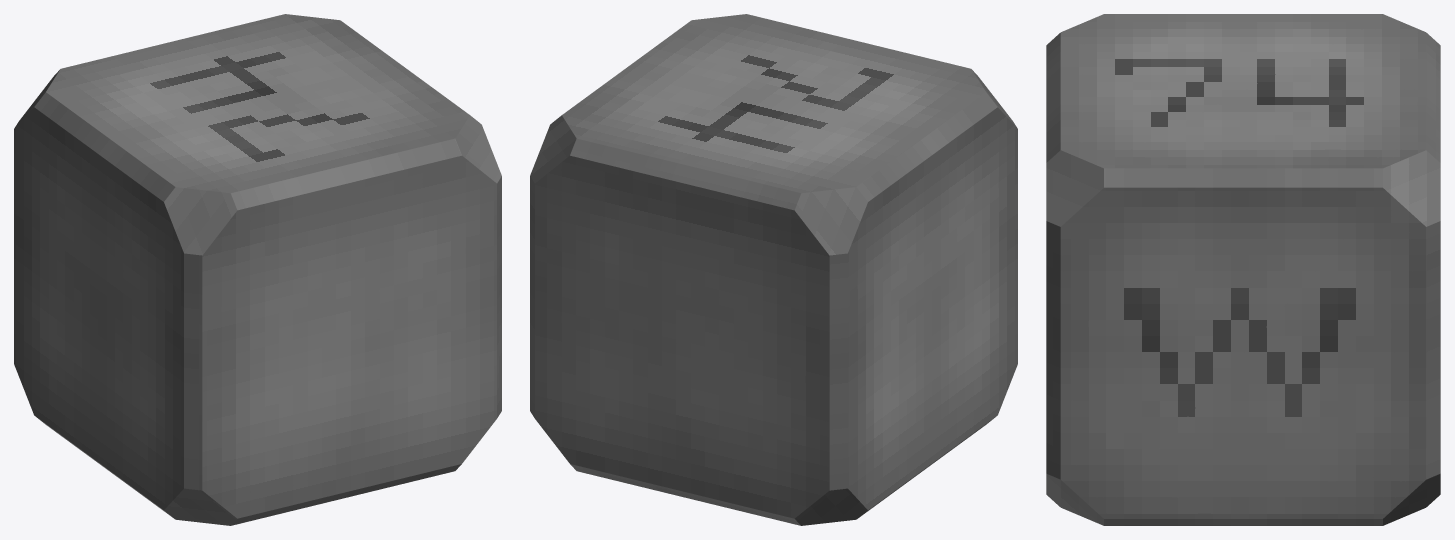
Rendered from Tungtungcube.glb.
3 renders of one model, left to right at view 1: azimuth 30°, elevation 25°; view 2: azimuth 150°, elevation 25°; view 3: azimuth 270°, elevation 25°, orthographic. The views are drawn at different scales.
Parts seen in each view (by area): view 1: Cube; view 2: Cube; view 3: Cube.
Part boxes in pixels (x1,y1,x2,y2): Cube: (14,14,501,525); Cube: (530,14,1017,525); Cube: (1046,14,1440,525).
Bounding box in the file's own units: 2 × 2 × 2.
1 material, 1 textured.
